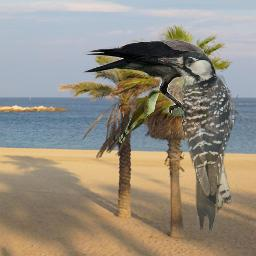Crow: (82, 38, 217, 116)
Cuckoo: (119, 90, 162, 143)
Woodpecker: (158, 51, 250, 236)
